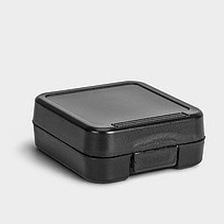plastic_box: (24, 74, 211, 187)
